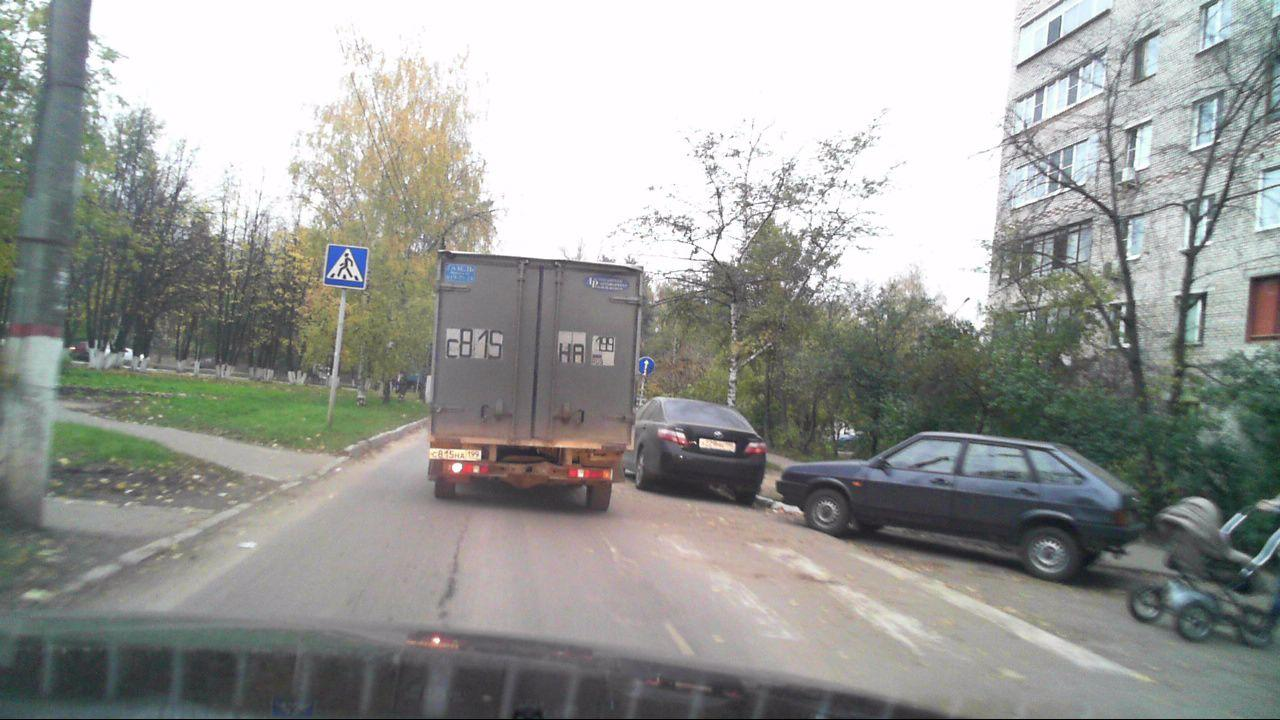road_sign: (325, 244, 369, 289), (639, 356, 656, 376)
